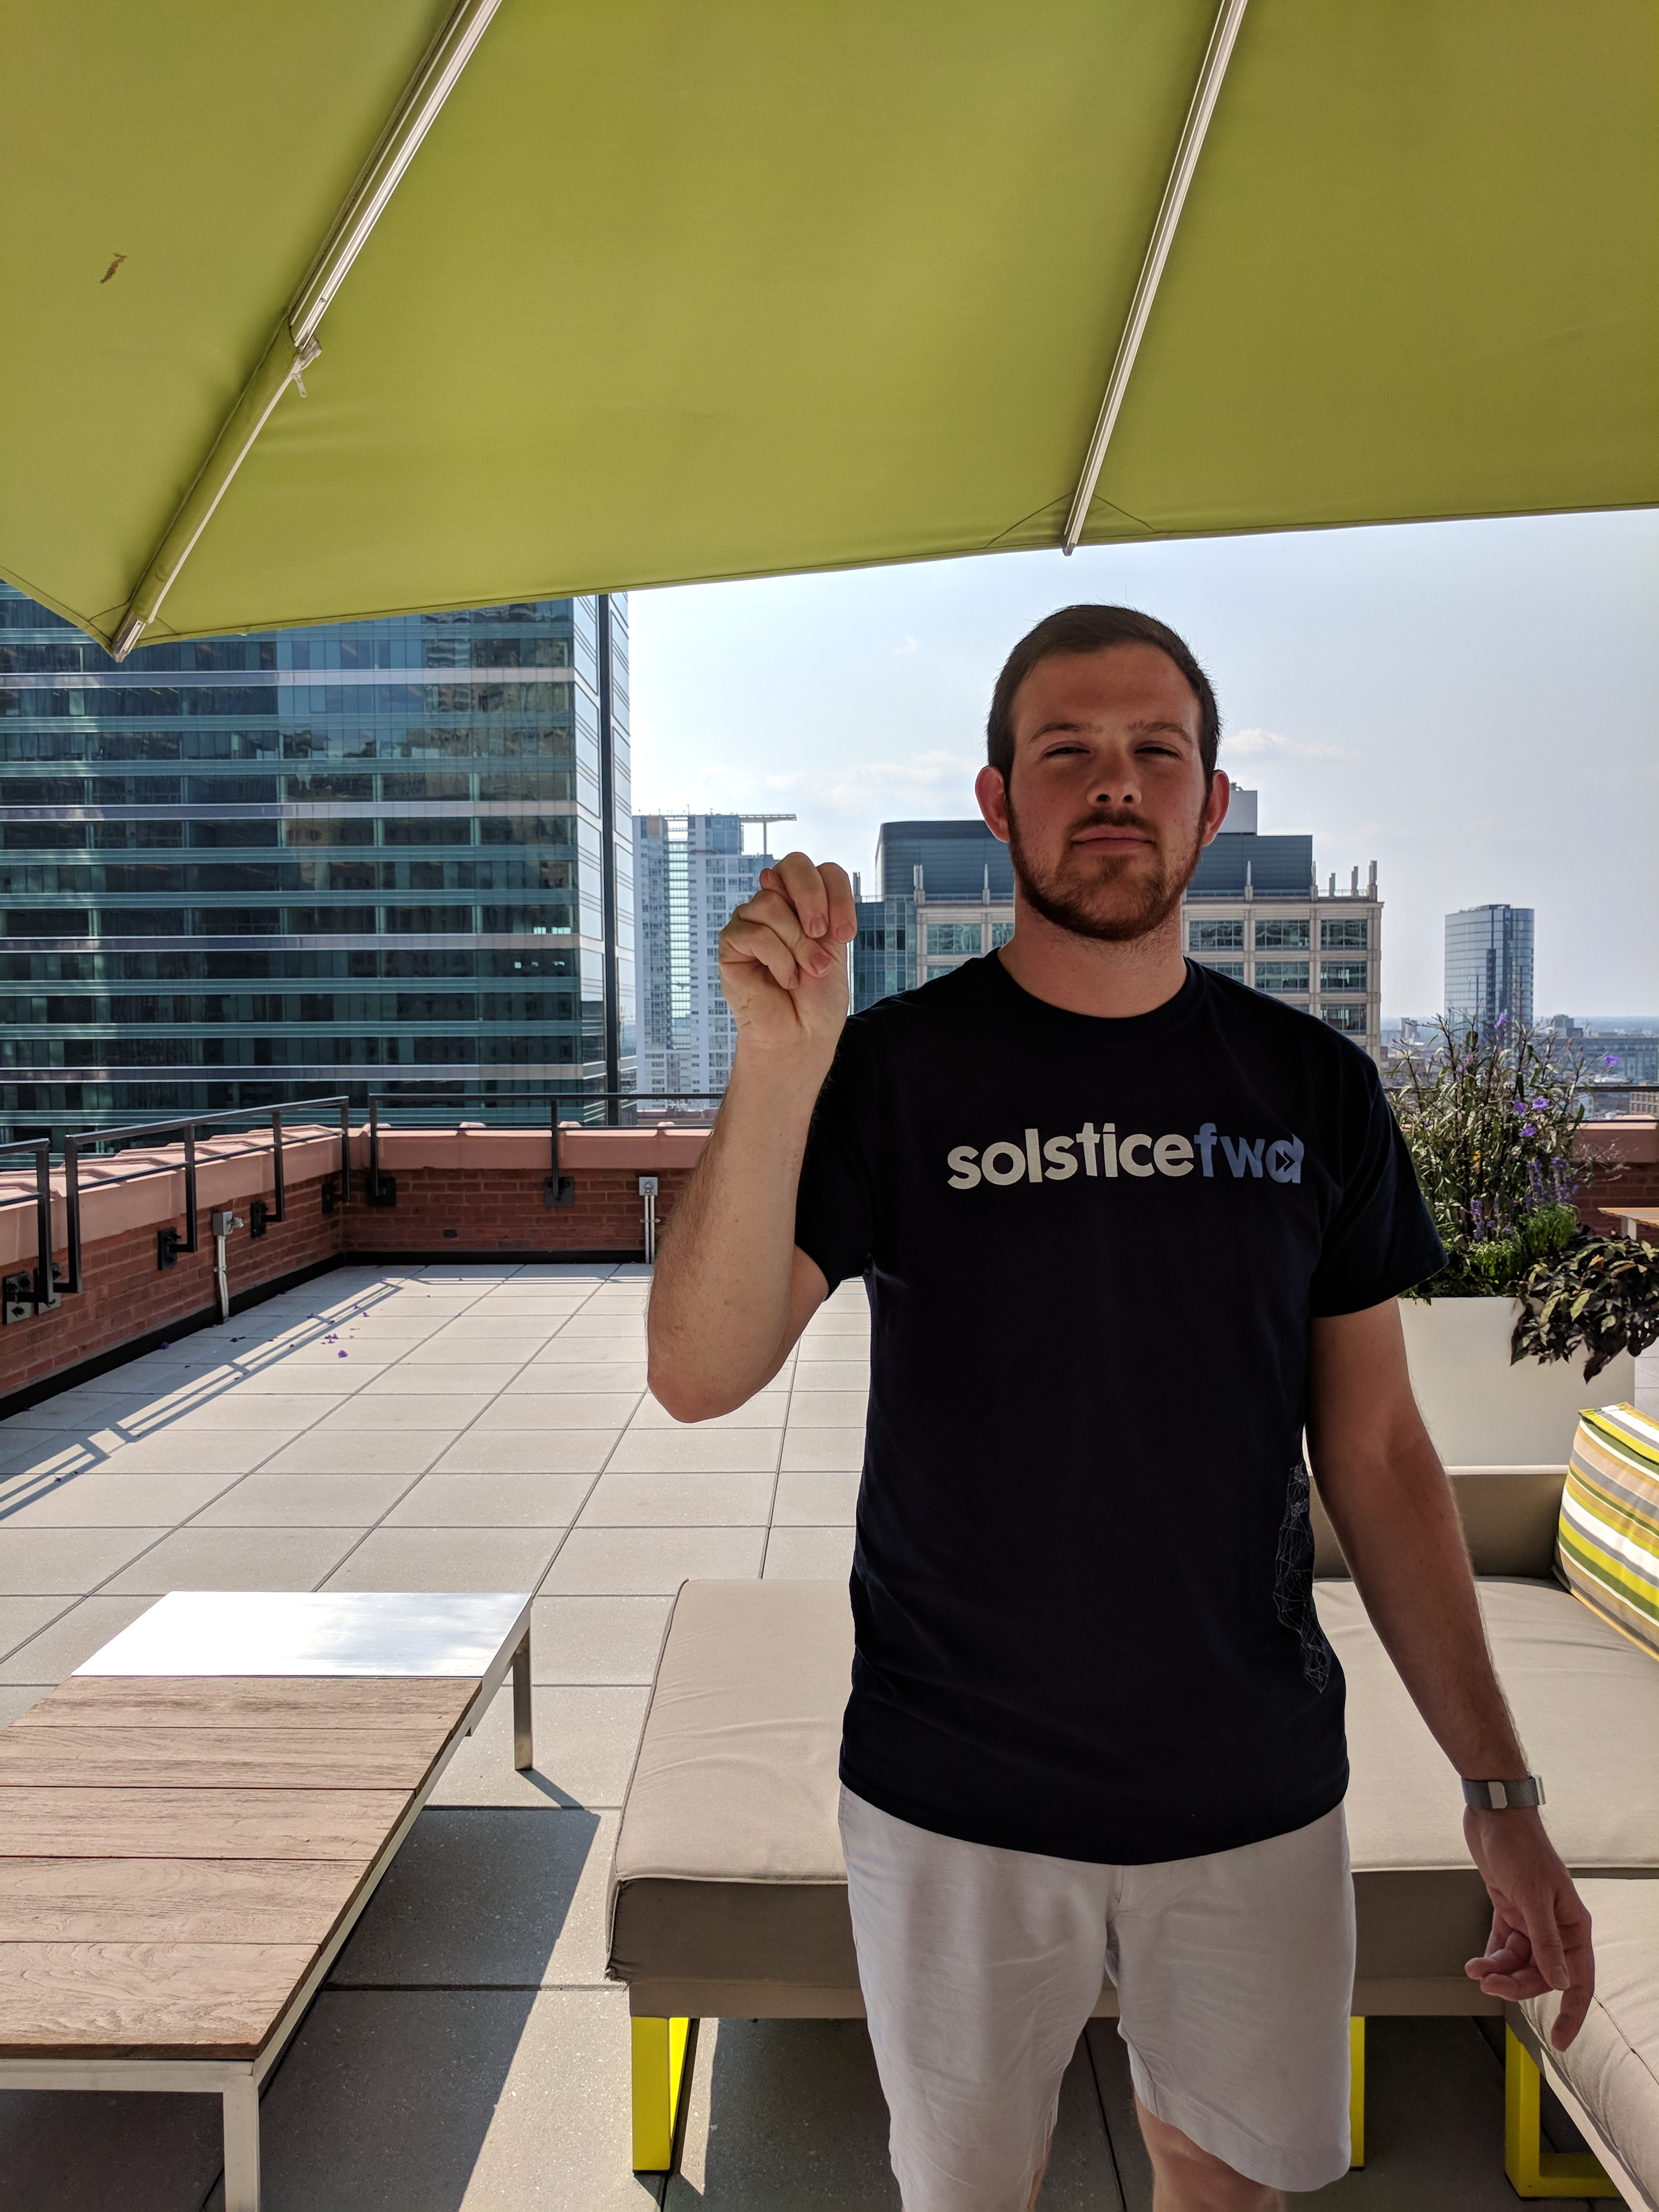n: (706, 845, 875, 1059)
